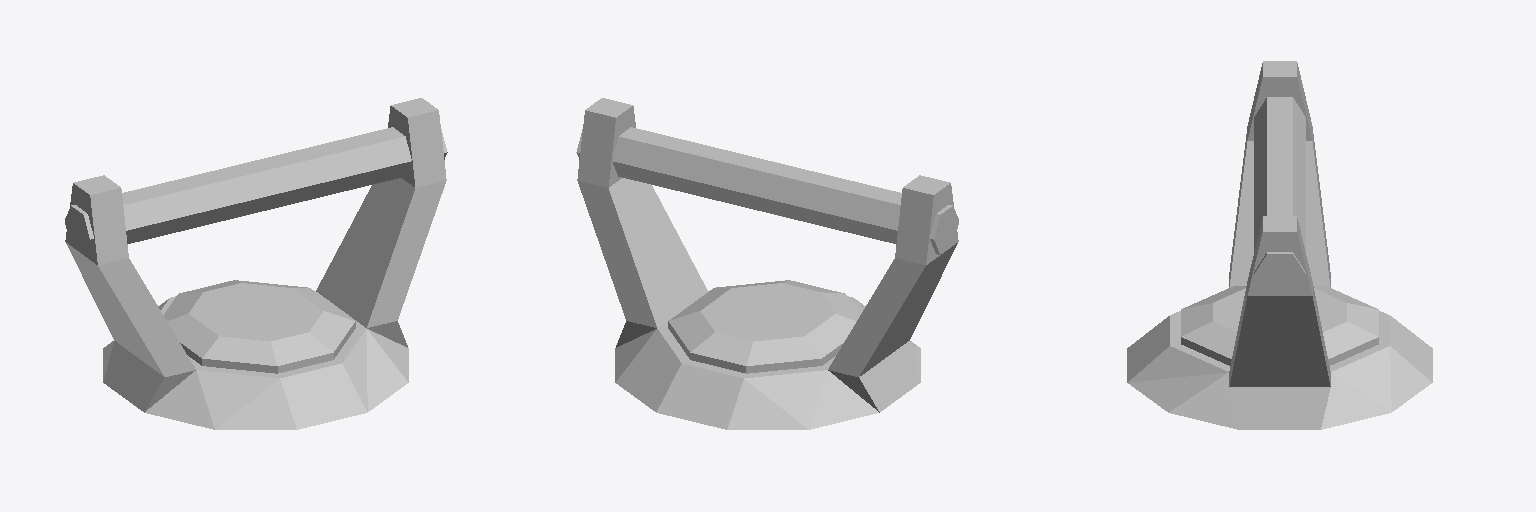
3 renders of one model, left to right at view 1: azimuth 30°, elevation 25°; view 2: azimuth 150°, elevation 25°; view 3: azimuth 270°, elevation 25°, orthographic.
Parts seen in each view (by area): view 1: TrayArm; view 2: TrayArm; view 3: TrayArm.
Part boxes in pixels (left/top/right/bottom): TrayArm: left=65, top=98, right=447, bottom=429; TrayArm: left=576, top=98, right=958, bottom=429; TrayArm: left=1127, top=61, right=1432, bottom=429.
Bounding box in the file's own units: 1.39 × 0.8117 × 1.02.